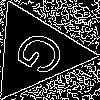G: (11, 27, 77, 86)
